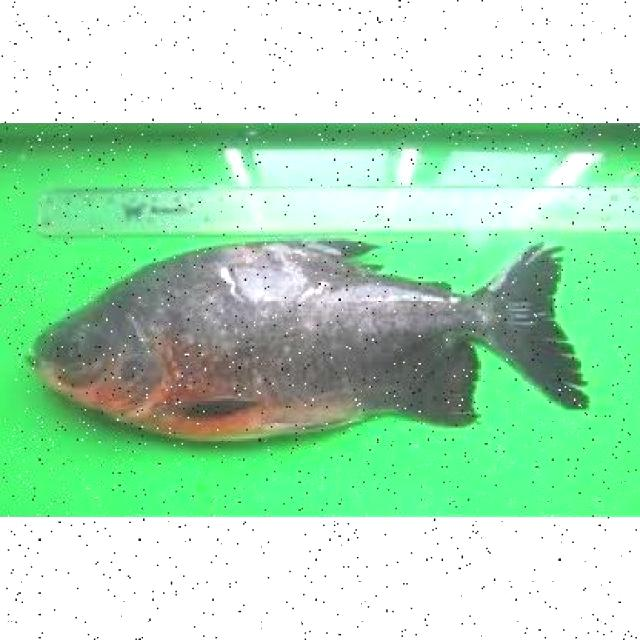ikan-pacu: (24, 232, 576, 442)
